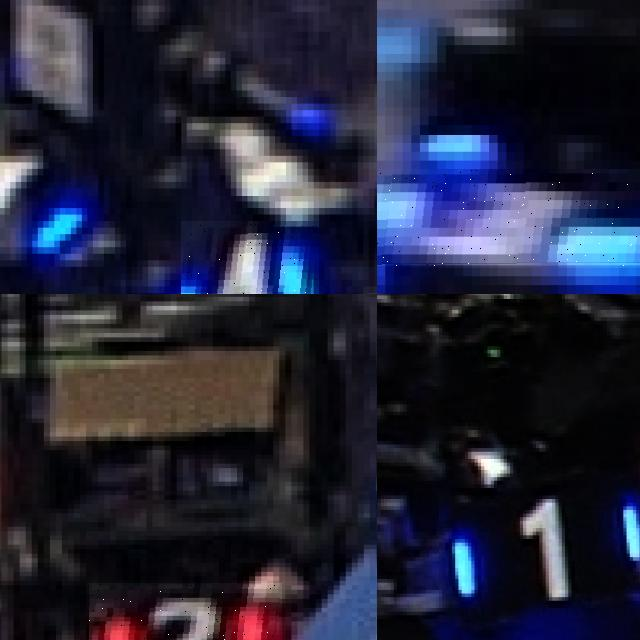B1: (435, 495, 640, 600)
B3: (377, 169, 640, 267)
B4: (181, 221, 319, 294)
R2: (89, 583, 282, 640)
